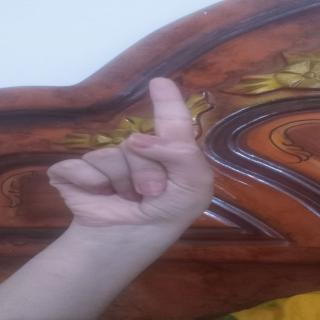BAA: (46, 71, 237, 235)
